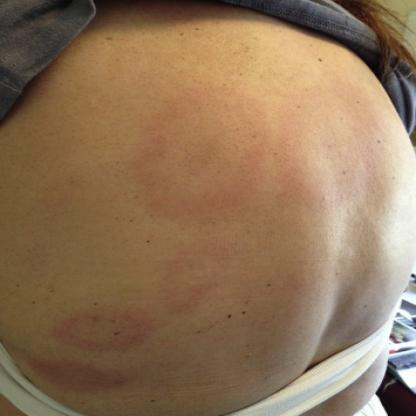Tick: (128, 82, 270, 226), (273, 79, 401, 233), (153, 242, 238, 317), (45, 306, 150, 353), (19, 357, 132, 394)
